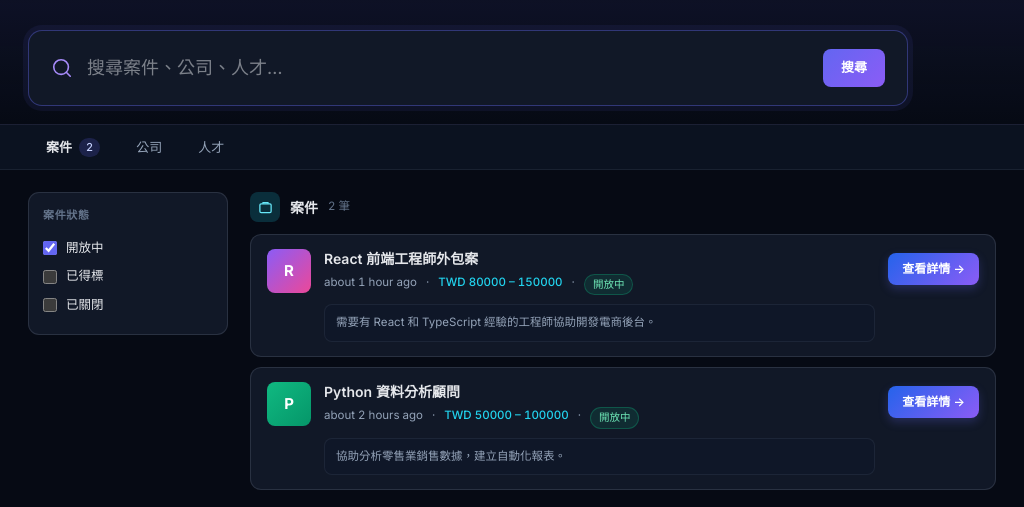
Test: SearchPage — user interaction › switches to 人才 tab and shows empty-state
This screenshot has width=1024, height=507.
Click the tab "人才": point(211, 147) [180,124,242,170]
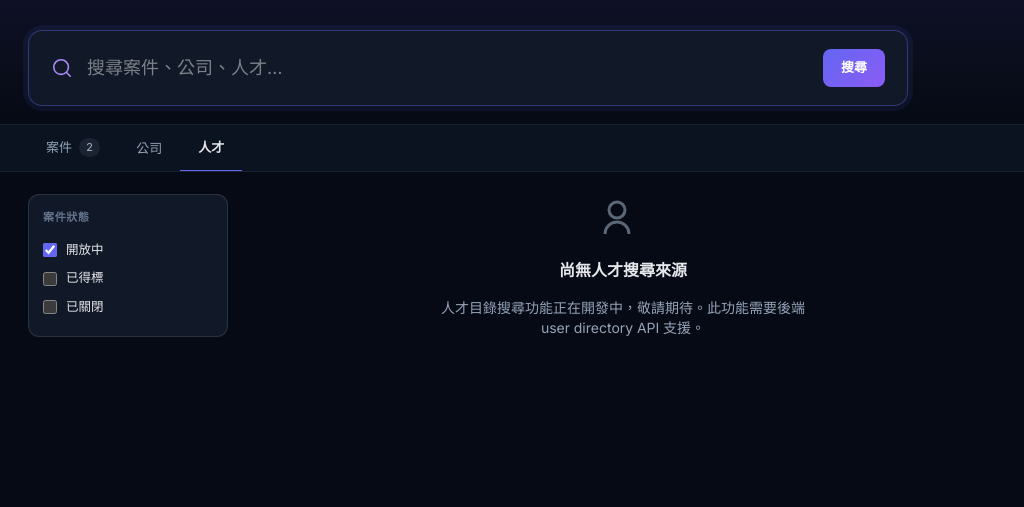
Expected: the text "尚無人才搜尋來源" is shown, [559,258,687,282]
